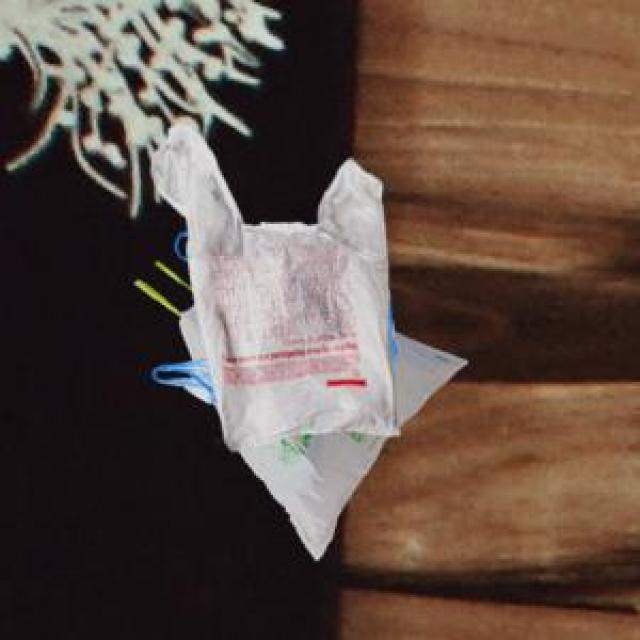plastic: (94, 93, 506, 586)
